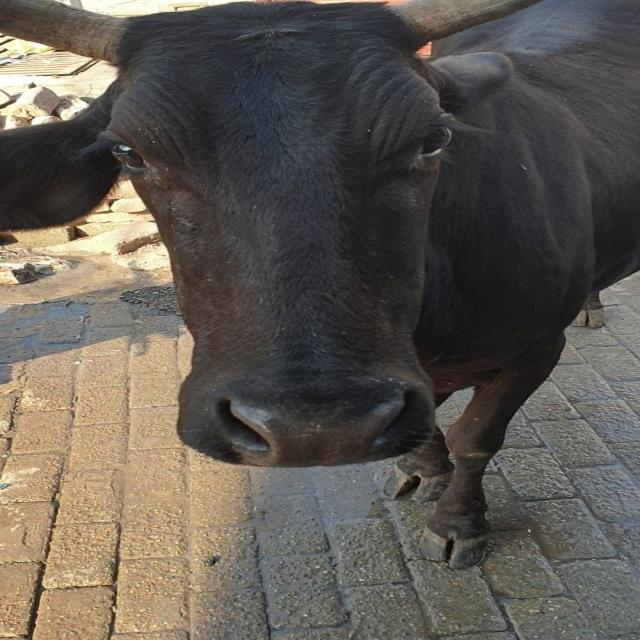cowFace: (101, 11, 489, 467)
